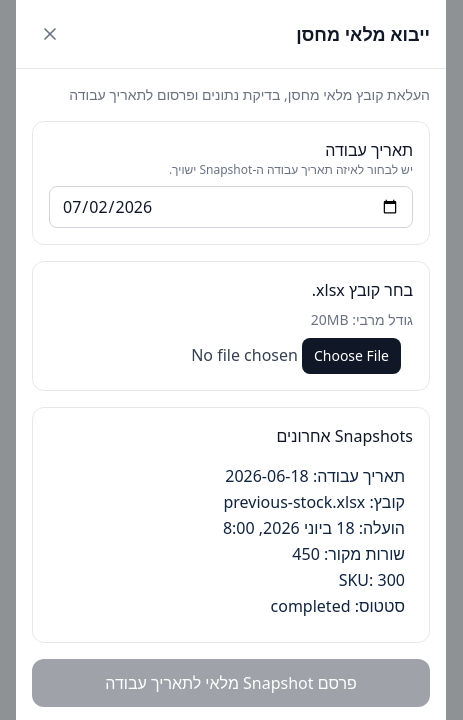
Test: WarehouseStockImportSheet › shows duplicate warning when planningDate already has a completed snapshot
Type "2026-06-18" into the date field labelled "תאריך עבודה".
click(231, 207); type("2026-06-18")  # box 49,186 -> 413,228
(page scrolled)
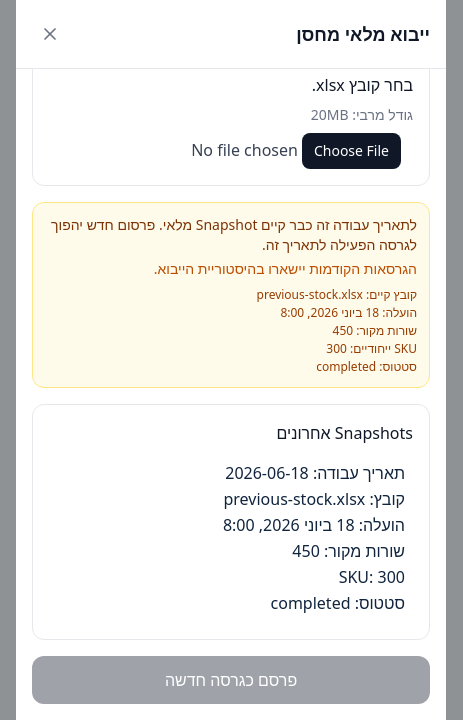
Now the text "פרסום חדש יהפוך לגרסה הפעילה לתאריך זה" is shown, box 51,215 -> 417,254
Now the text "הגרסאות הקודמות יישארו בהיסטוריית הייבוא." is shown, box 154,259 -> 417,278
Now the button "פרסם כגרסה חדשה" is shown, box 32,656 -> 430,704
